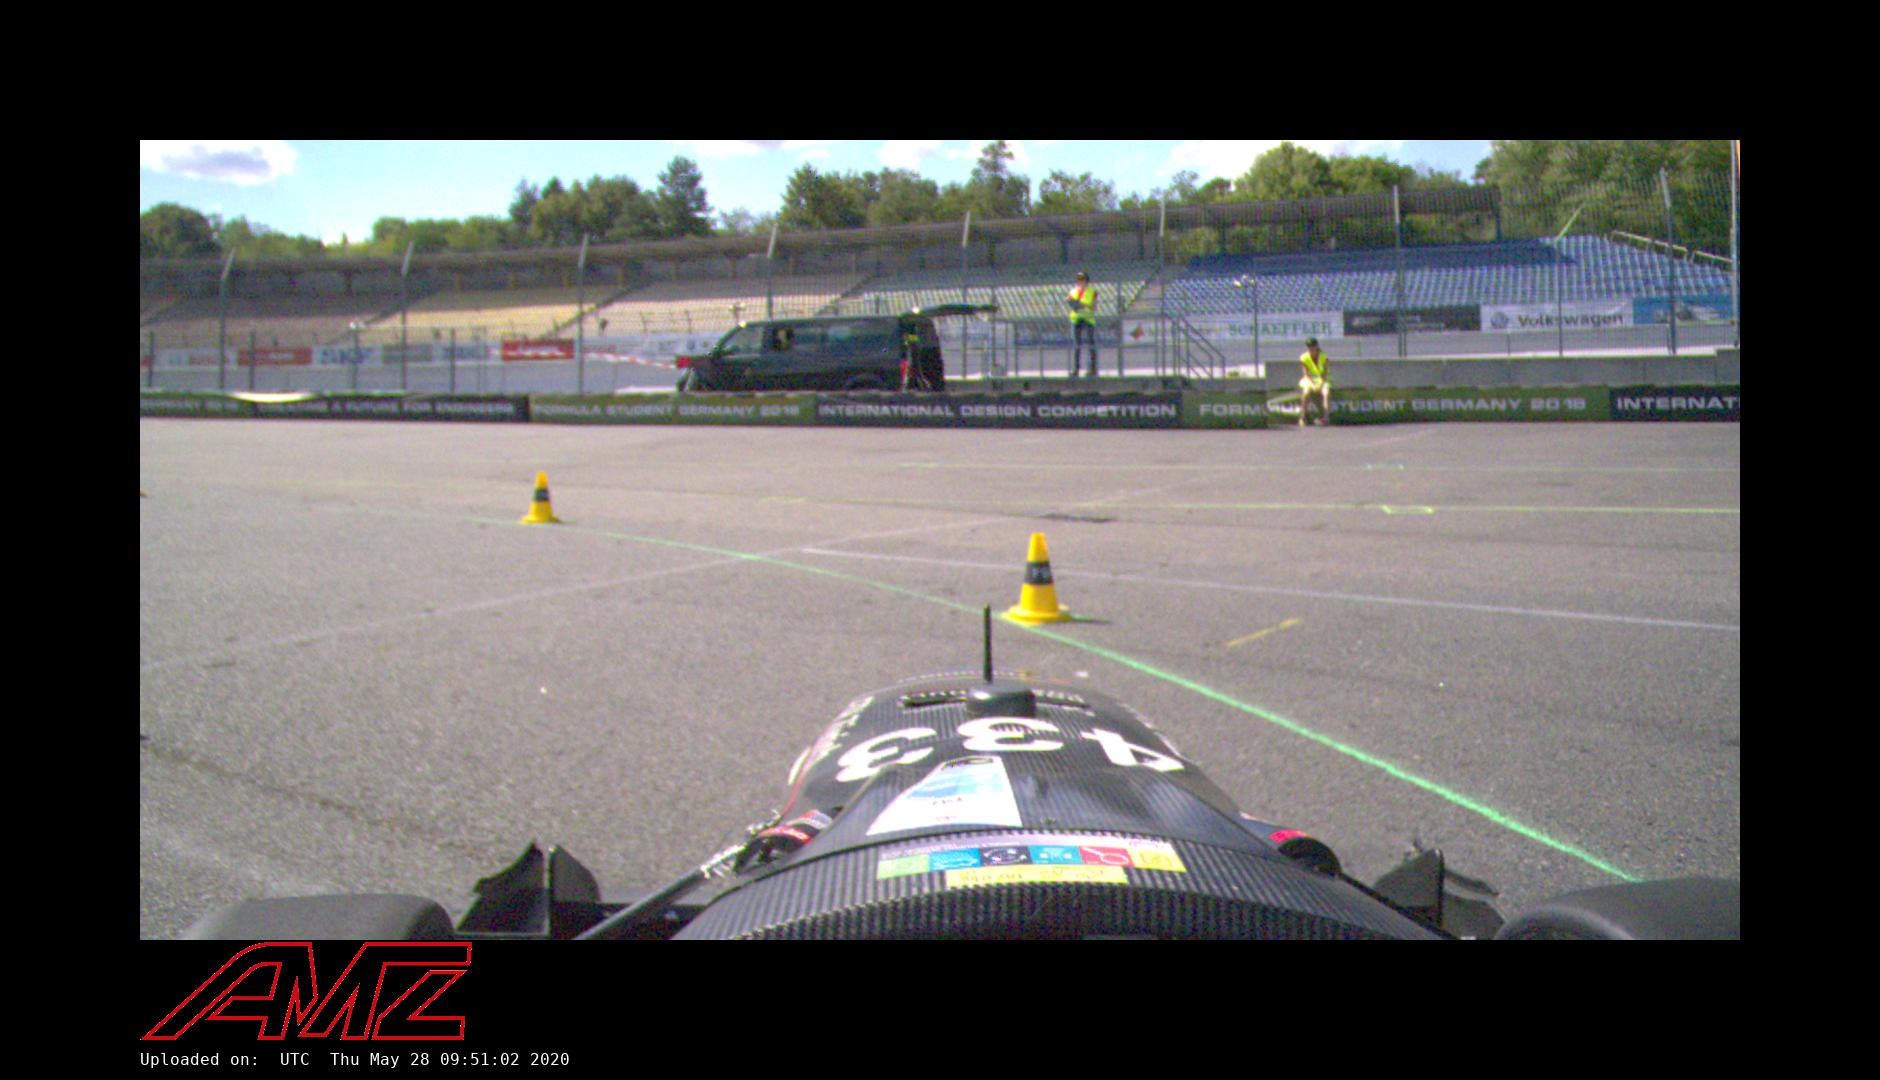yellow_cone: (1008, 525, 1076, 622), (520, 471, 560, 524)
